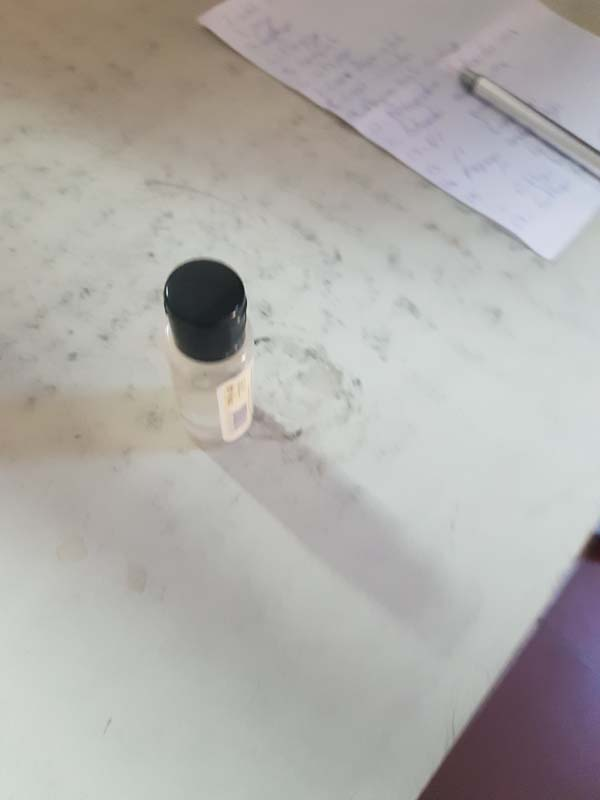redbulkolonya: (165, 255, 261, 446)
